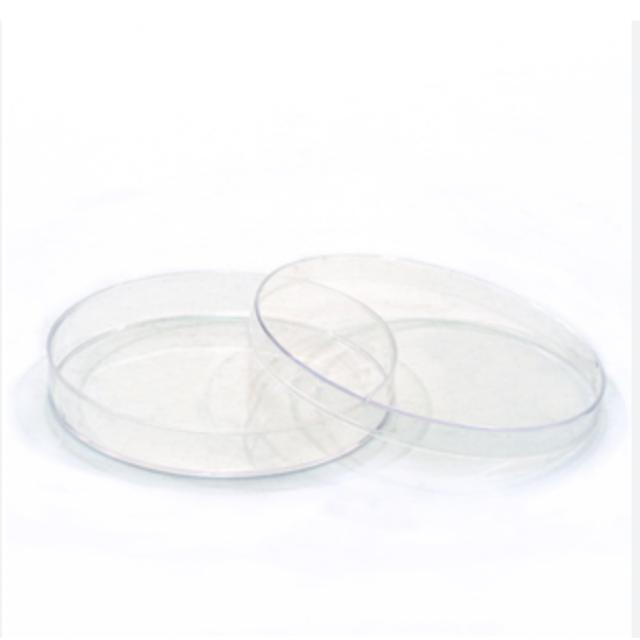recyclable: (34, 222, 613, 508)
